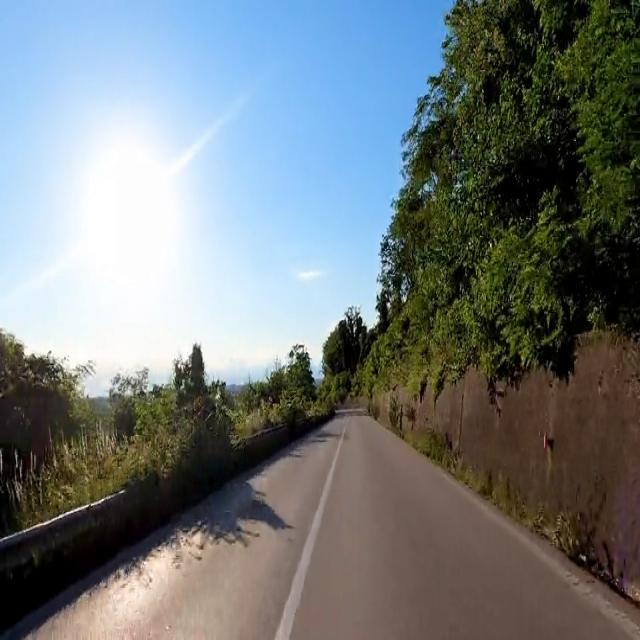lane: (275, 425, 345, 639)
road: (9, 409, 639, 638)
